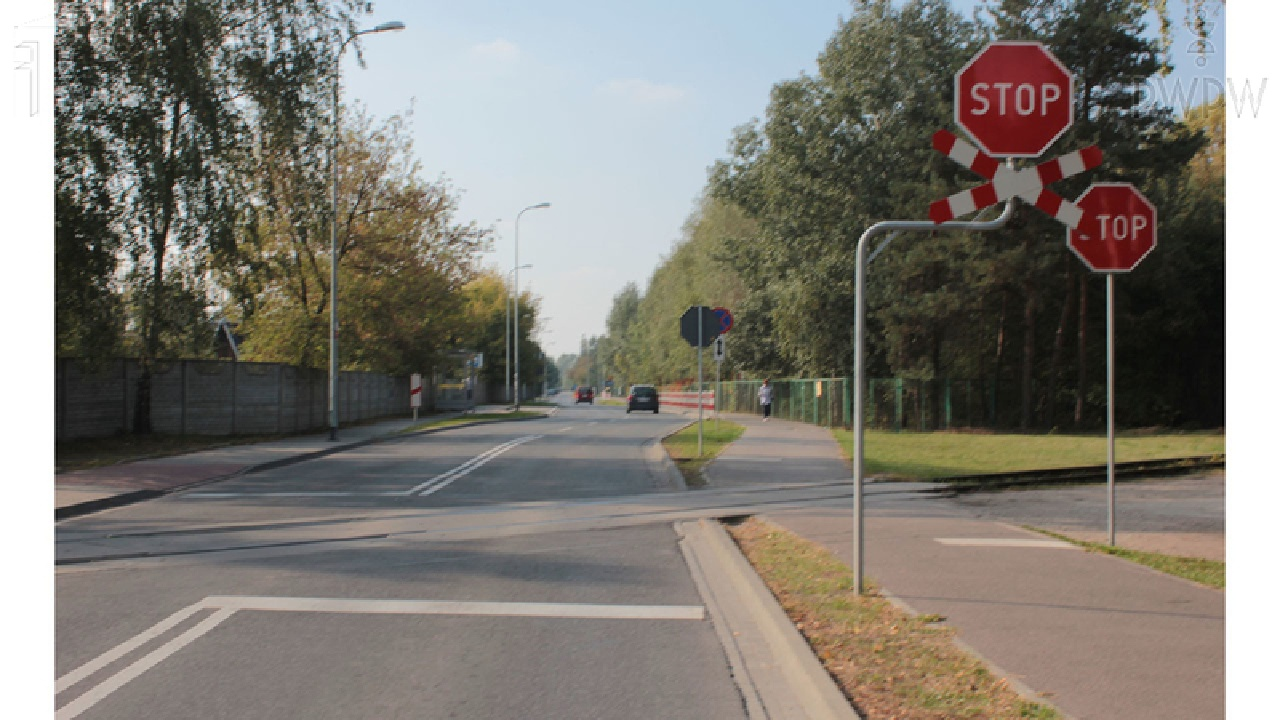B20: (952, 40, 1075, 161), (1064, 181, 1157, 273)
B36: (710, 306, 733, 334)
